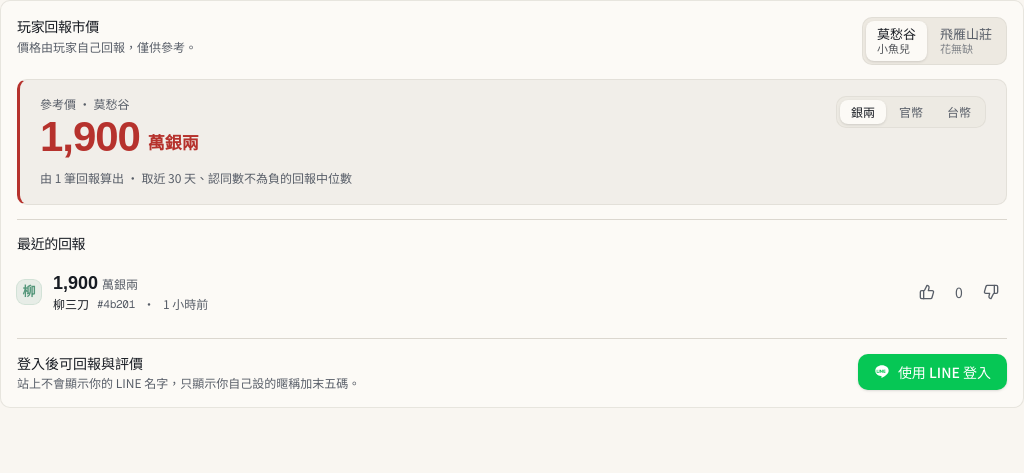
MarketPriceSection › 切到台幣但沒設匯率時顯示破折號，不推估數字
Expected: the text "1,900" is shown, [40,116,140,158]
Click the button "台幣": coordinates (959, 112) [936,100,982,124]
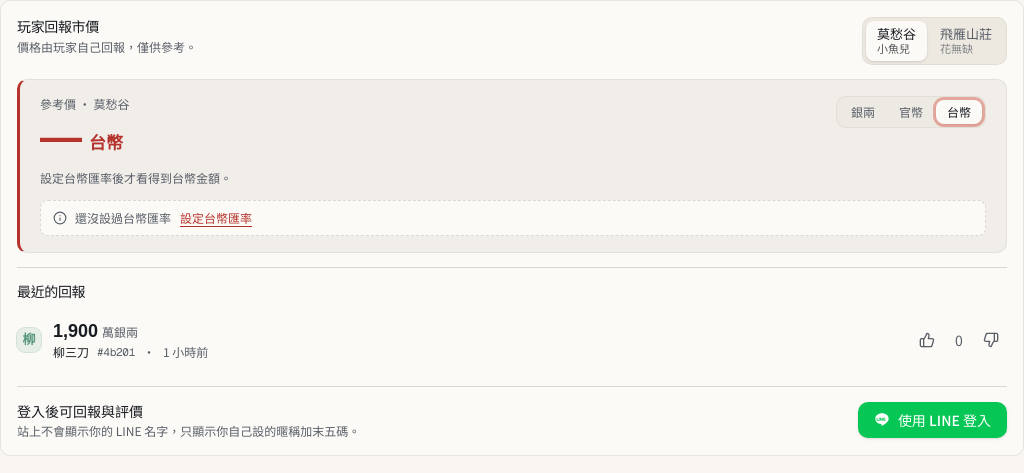
Expected: the text "—" is shown, [40,116,81,158]
Expected: the button "設定台幣匯率" is shown, [179,208,253,226]
